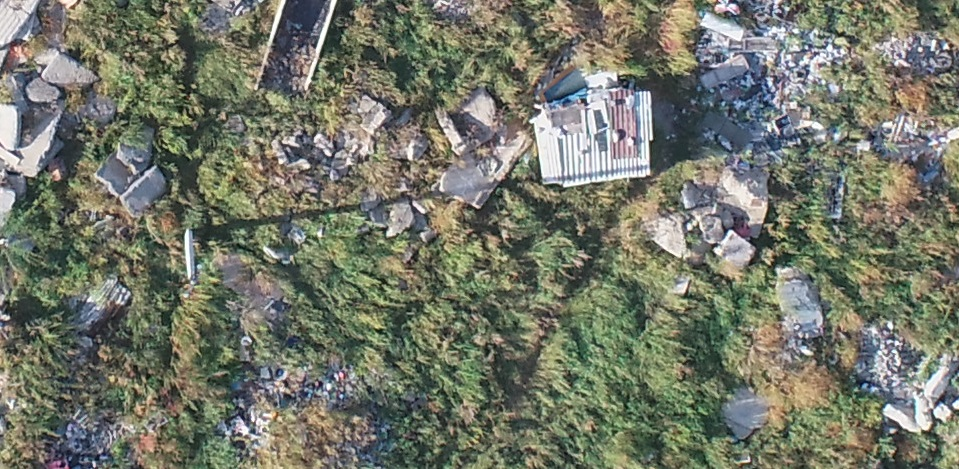opora: (179, 214, 268, 285)
